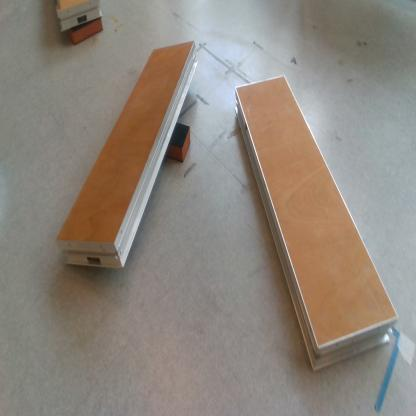Stairs: (235, 73, 399, 371), (57, 40, 199, 272), (57, 1, 104, 30)
